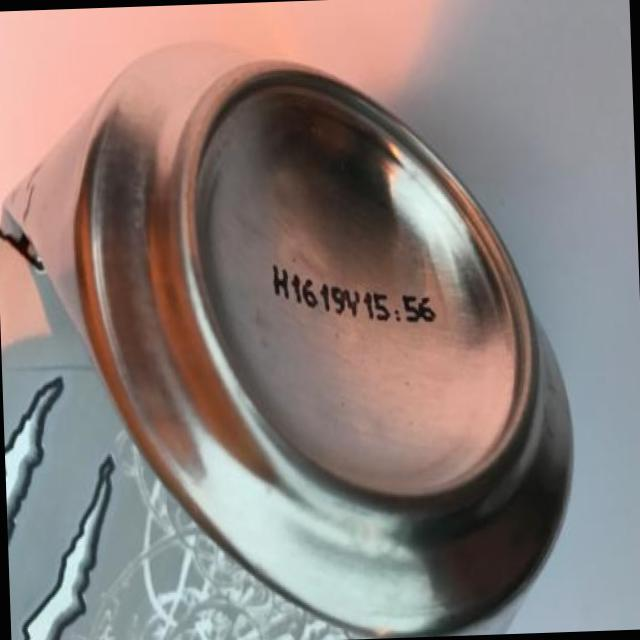kim_loai: (0, 41, 574, 640)
